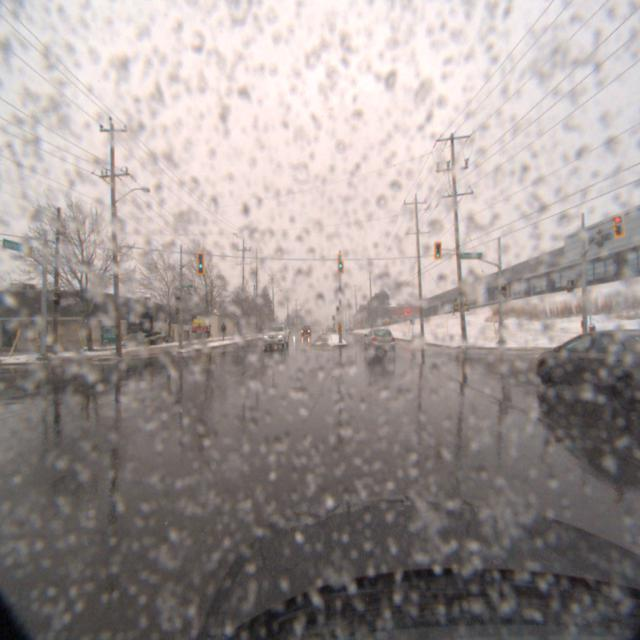Car: (362, 326, 398, 357), (260, 322, 292, 347)
